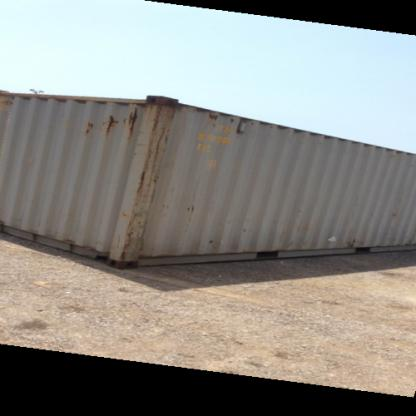Damage: (124, 171, 154, 258), (147, 100, 181, 166), (80, 105, 144, 140), (324, 232, 360, 250), (182, 198, 199, 226), (201, 108, 222, 128), (237, 216, 252, 238), (201, 236, 220, 250), (387, 202, 399, 217)
